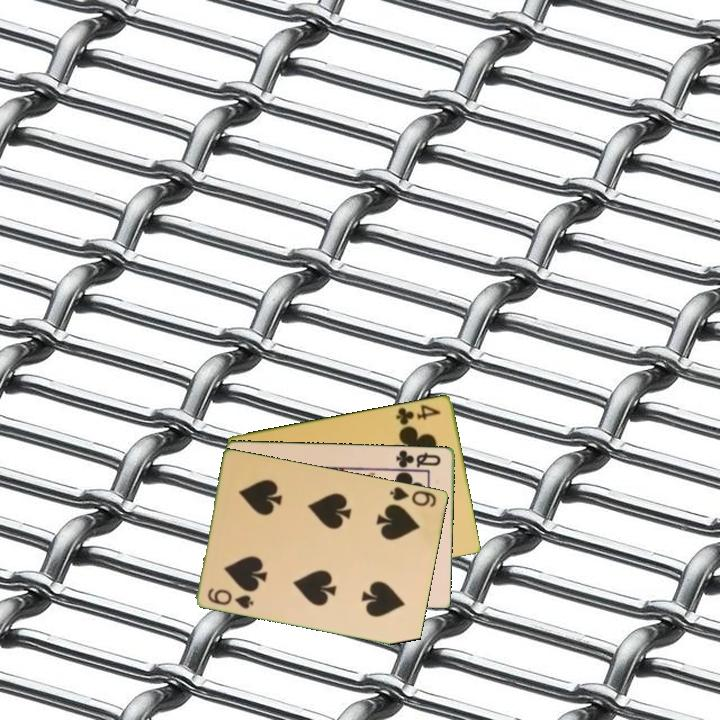4c: (392, 401, 443, 428)
6s: (387, 483, 440, 510), (204, 584, 257, 611)
Qc: (393, 446, 444, 470)
